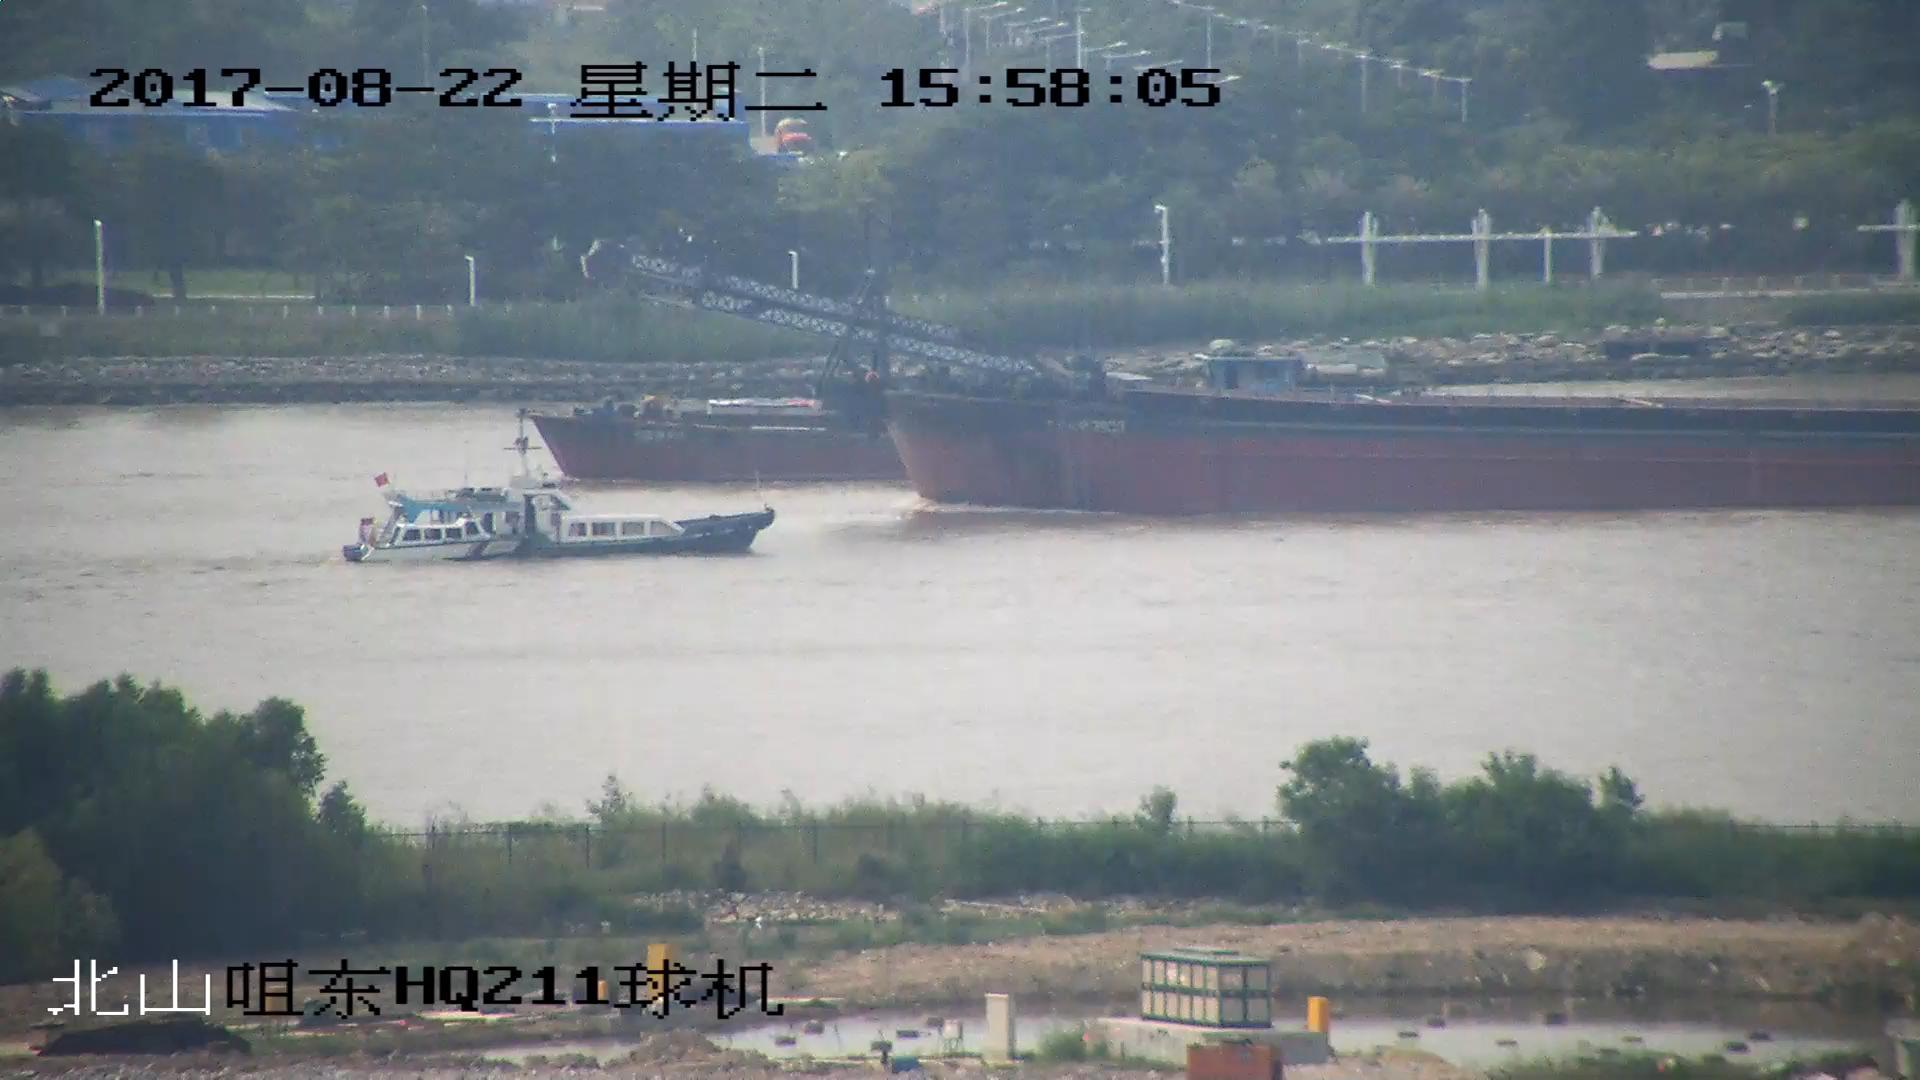Ship: (592, 251, 1920, 516), (338, 472, 773, 566), (516, 392, 905, 479)
